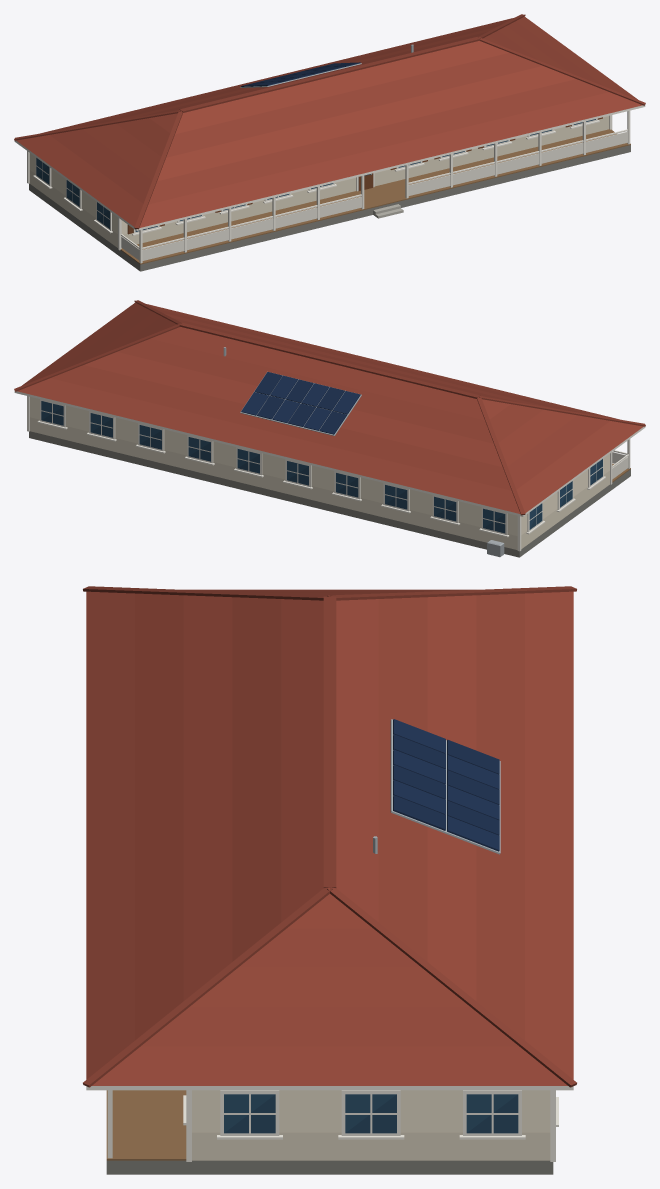
File: house_33x13.glb
3 renders of one model, top to bottom at view 1: azimuth 30°, elevation 25°; view 2: azimuth 150°, elevation 25°; view 3: azimuth 270°, elevation 25°, orthographic. The views are drawn at different scales.
Visible parts, largest first — view 1: house; view 2: house; view 3: house.
Part boxes in pixels (box(x1,y1,x2,y2)): house: box(14, 14, 645, 271); house: box(14, 300, 645, 557); house: box(83, 586, 576, 1174).
Bounding box in the file's own units: 34.4 × 6.22 × 14.4.
